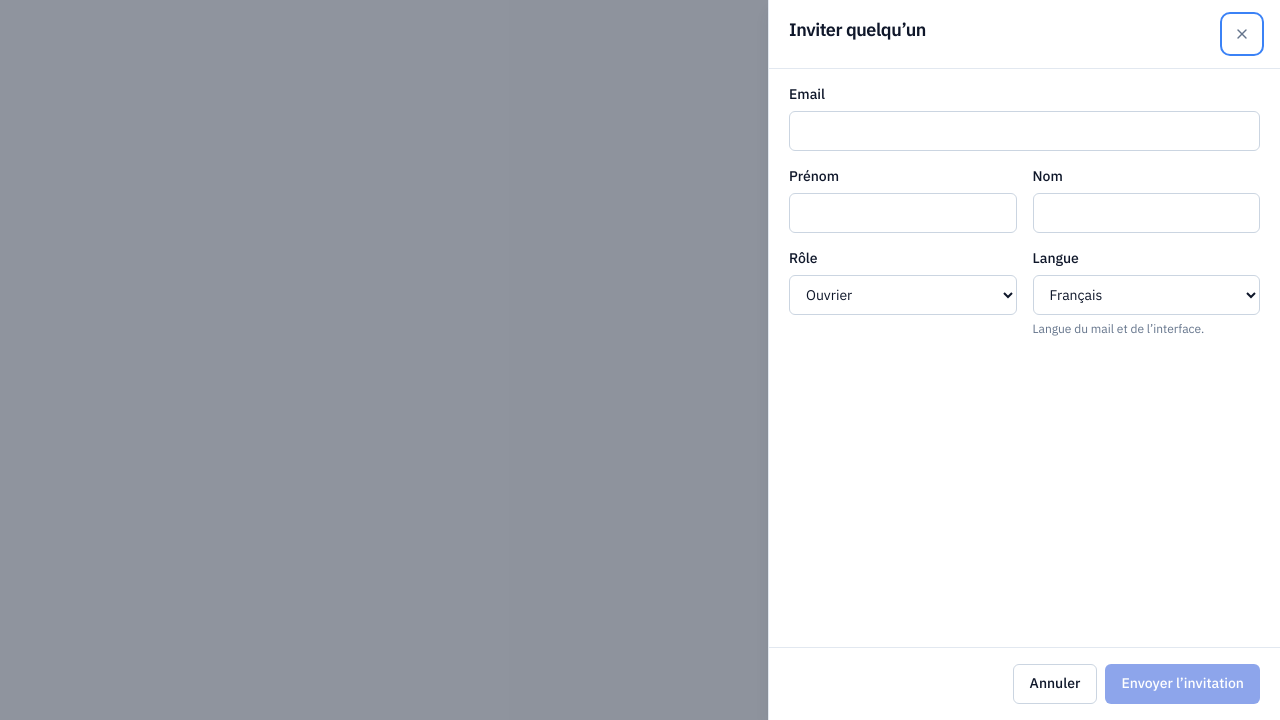
it: InviteDrawer › clears the refusal as soon as a field changes
The image size is (1280, 720).
Type "karim@exemple.fr" into the field labelled "Email".
click(1024, 131); type("karim@exemple.fr")  # box [789, 111, 1260, 151]
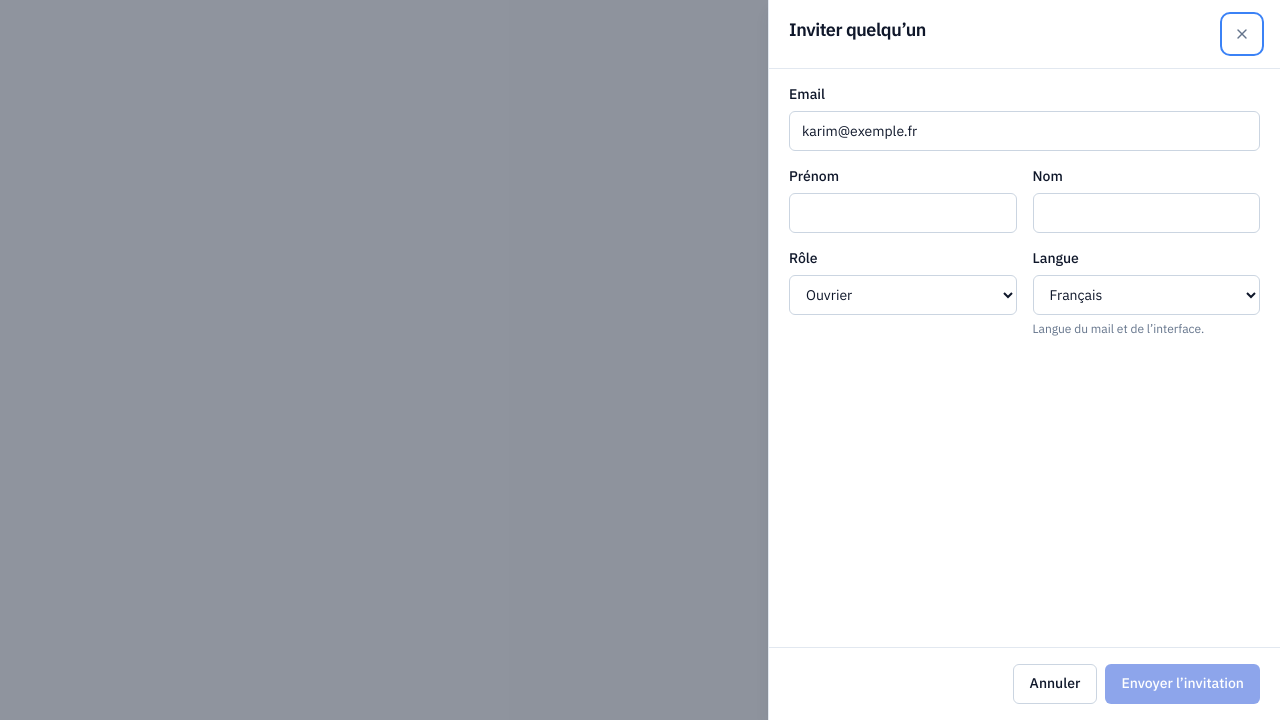
Type "Karim" into the field labelled "Prénom".
click(903, 213); type("Karim")  # box [789, 193, 1016, 233]
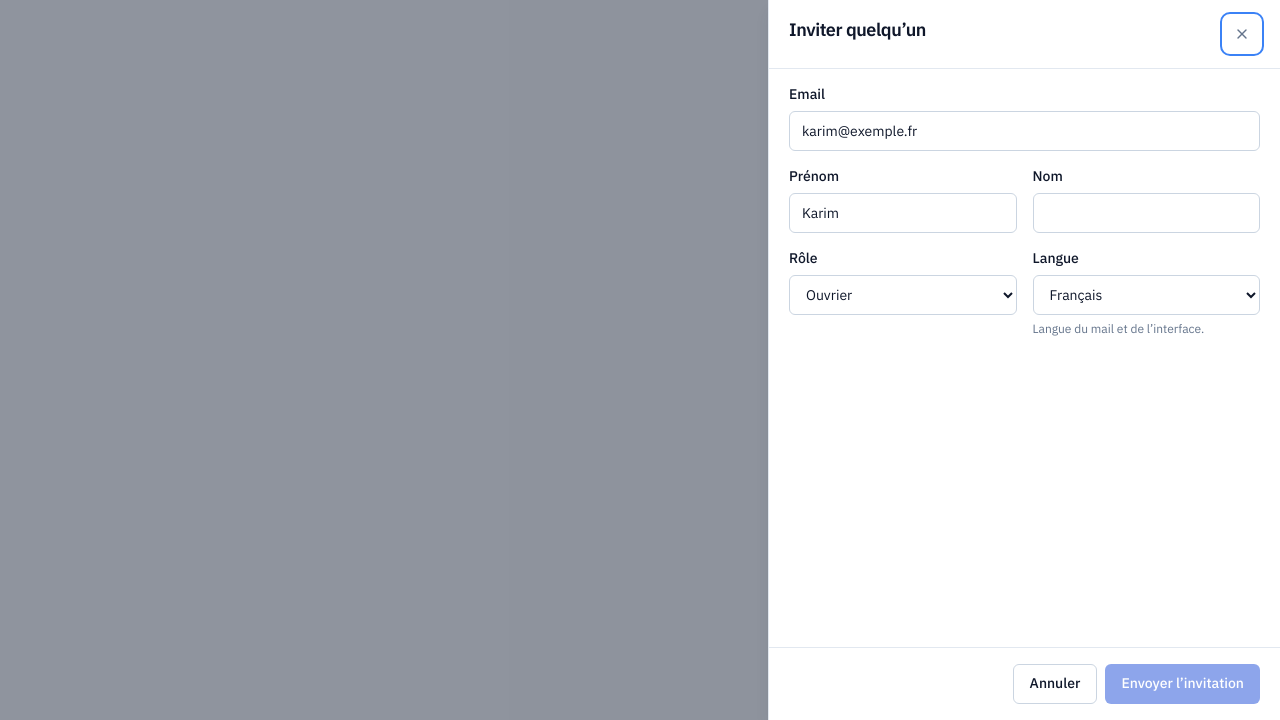
Type "Benali" into the field labelled "Nom".
click(1146, 213); type("Benali")  # box [1032, 193, 1260, 233]
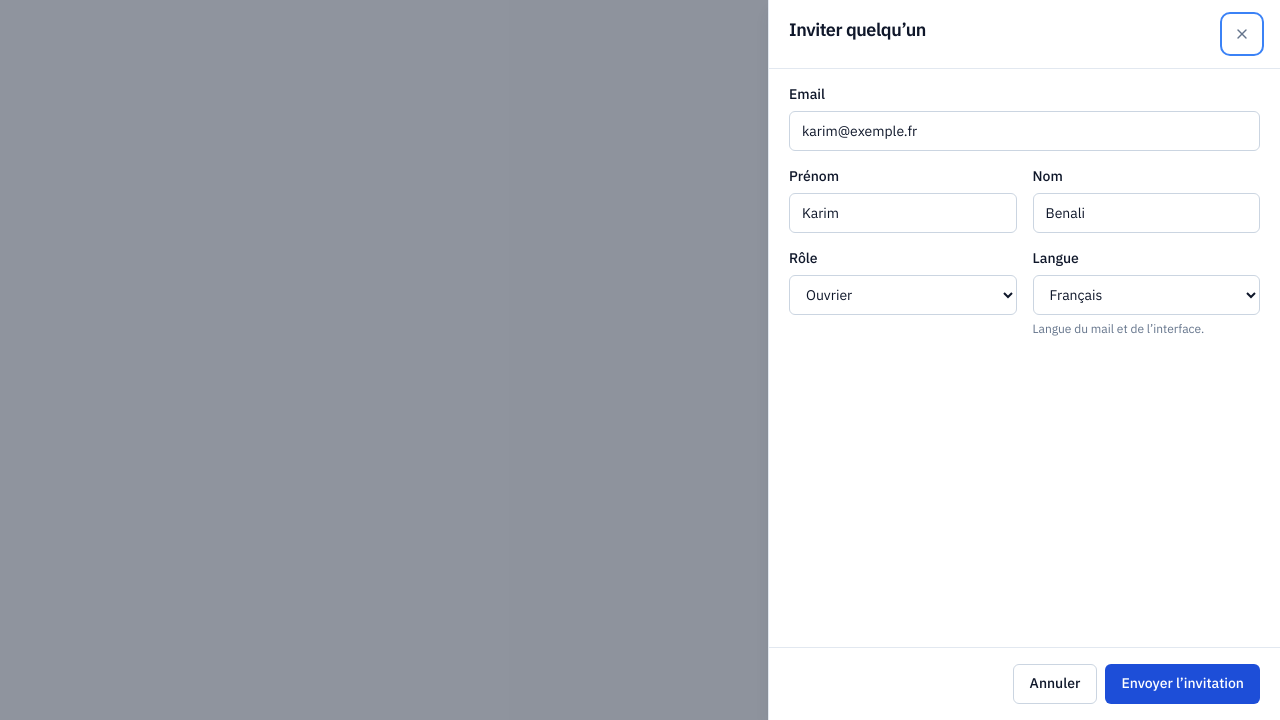
Click the button "Envoyer l’invitation".
click(1183, 684)  # box [1105, 664, 1260, 704]
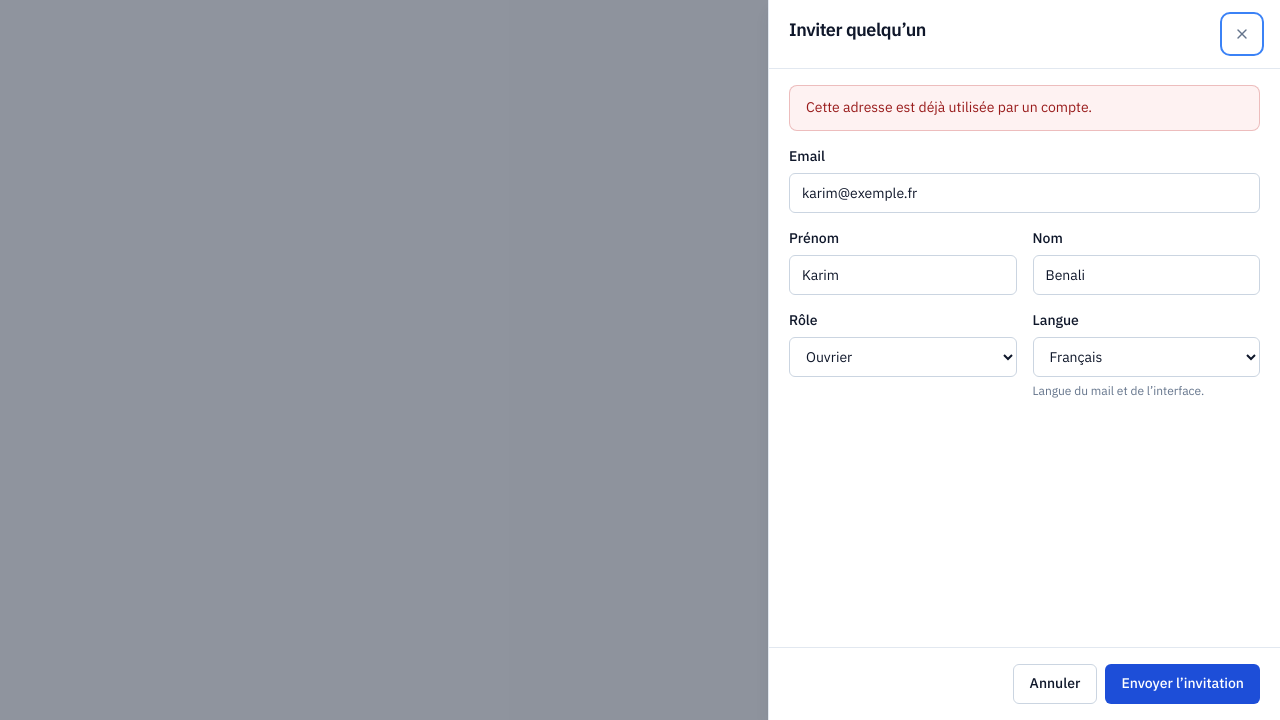
expect the text "Cette adresse est déjà utilisée par un compte." is shown: met, box [789, 85, 1260, 131]
Replace the text in the field labelled "Email" with "autre@exemple.fr" at [1024, 193], box [789, 173, 1260, 213]
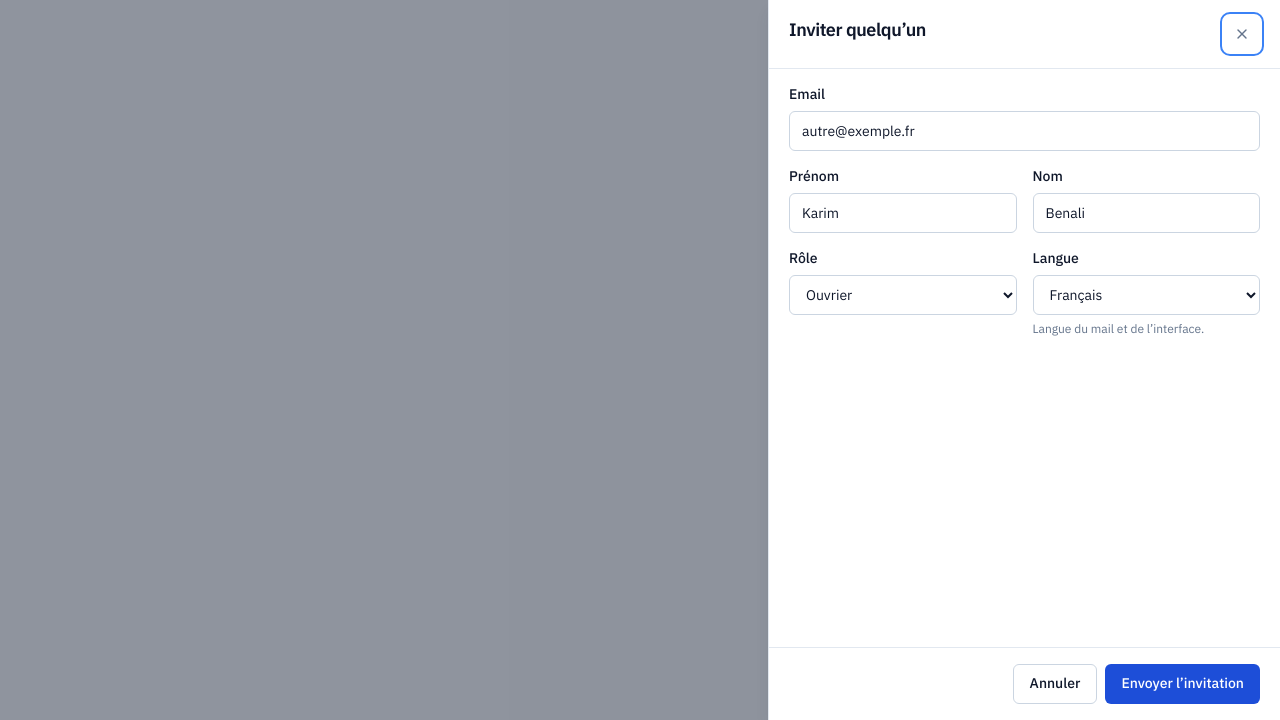
expect the text "Cette adresse est déjà utilisée par un compte." is gone: met
